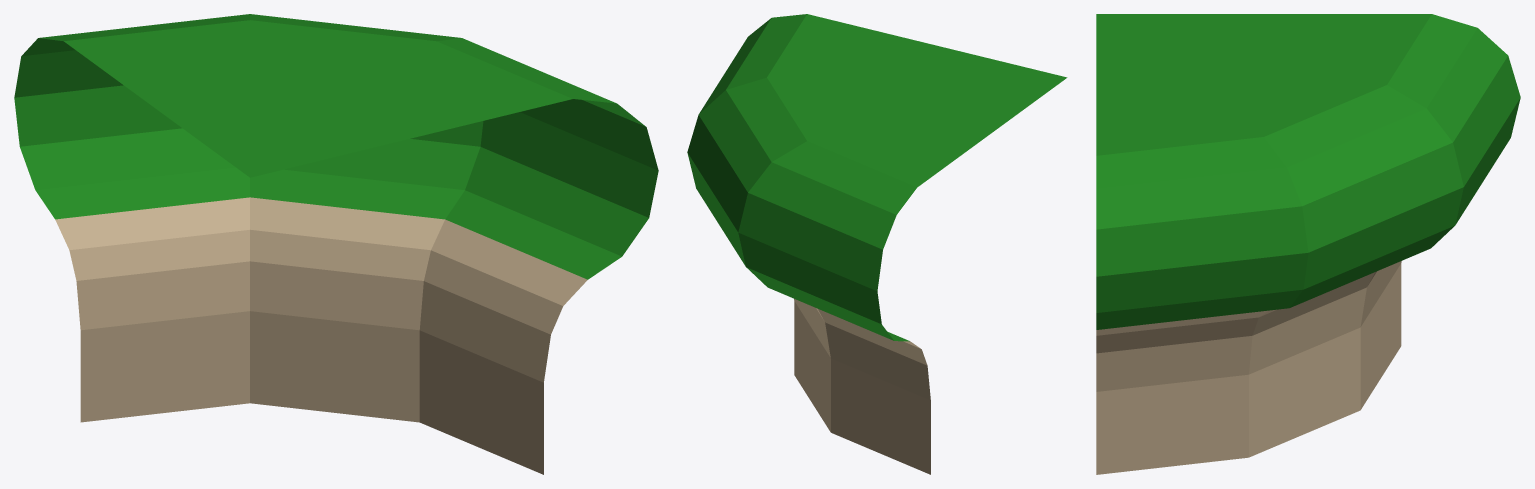
File: Escarpment_Terrain_Corner_Outer_2x2_Top.obj
The picture shows the model from 3 angles, left to right: view 1: azimuth 30°, elevation 25°; view 2: azimuth 150°, elevation 25°; view 3: azimuth 270°, elevation 25°; orthographic projection. The views are drawn at different scales.
Visible parts, largest first — view 1: object1; view 2: object1; view 3: object1.
Part boxes in pixels (bbox=[...]): object1: bbox=[14, 14, 658, 474]; object1: bbox=[687, 14, 1067, 474]; object1: bbox=[1096, 14, 1520, 474].
Bounding box in the file's own units: 1.39 × 1.2 × 1.39.
